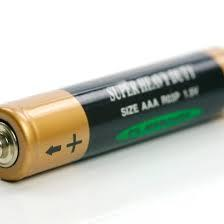AAA: (0, 44, 223, 184)
